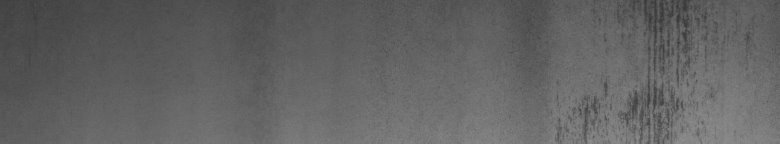ka: (553, 4, 752, 136)
